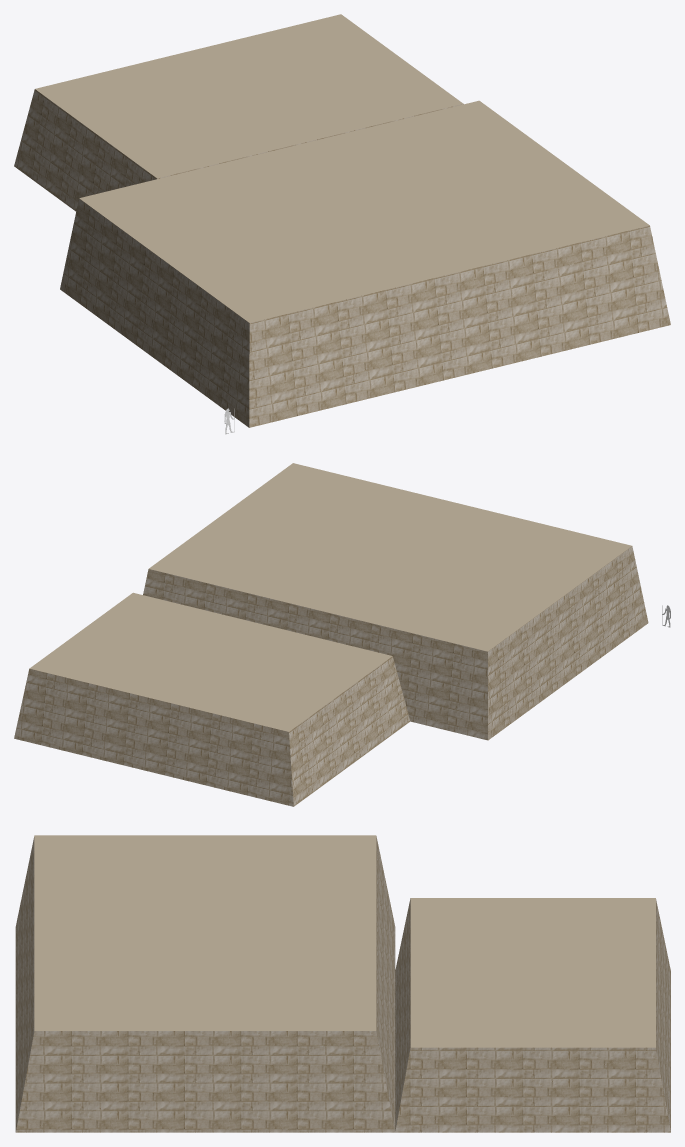
Rendered from Lepsius_XXV.obj.
3 views of the same model, one above another, from view 1: azimuth 30°, elevation 25°; view 2: azimuth 150°, elevation 25°; view 3: azimuth 270°, elevation 25° (orthographic). The views are drawn at different scales.
Visible parts, largest first — view 1: Mesh1 Model; view 2: Mesh1 Model; view 3: Mesh1 Model.
Boxes of the visible parts, left/top/right/bottom form: Mesh1 Model: left=14, top=14, right=670, bottom=427; Mesh1 Model: left=14, top=463, right=648, bottom=806; Mesh1 Model: left=15, top=835, right=670, bottom=1132.
Bounding box in the file's own units: 29.38 × 6 × 37.28.
